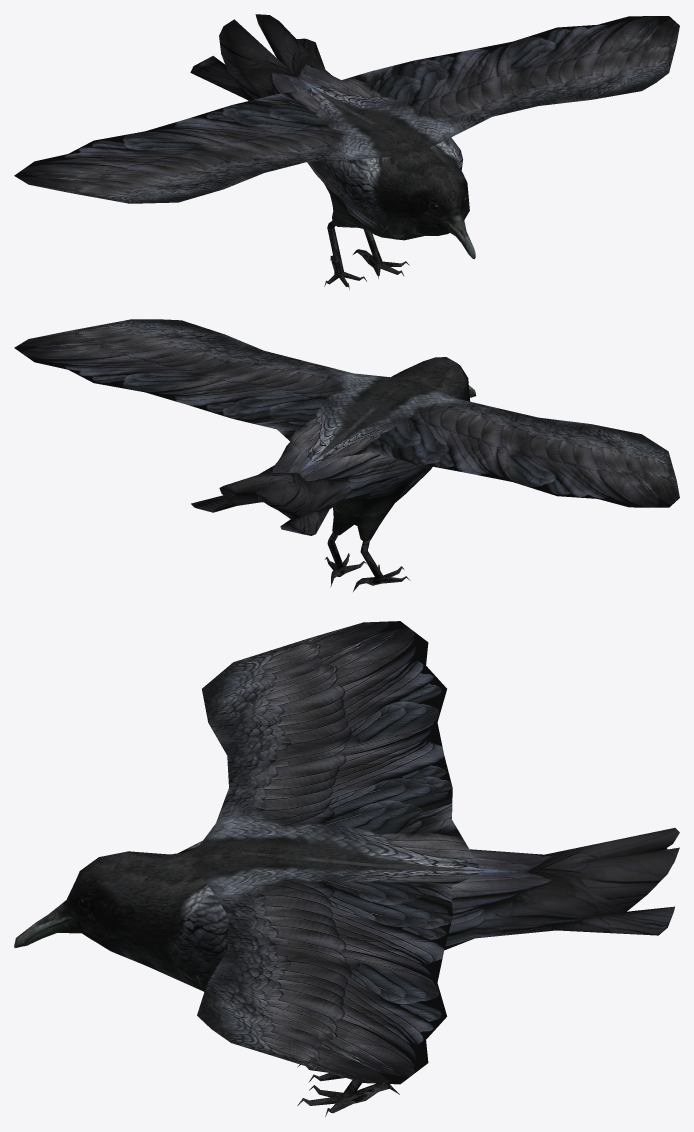
The model's file is crow.fbx.
3 renders of one model, top to bottom at view 1: azimuth 30°, elevation 25°; view 2: azimuth 150°, elevation 25°; view 3: azimuth 270°, elevation 25°, orthographic. The views are drawn at different scales.
Visible parts, largest first — view 1: crow1; view 2: crow1; view 3: crow1.
Part boxes in pixels (x1,y1,x2,y2): crow1: (14,14,679,289); crow1: (14,319,679,591); crow1: (14,621,679,1116).
Size of the model in its own units: 77.85 by 19.39 by 47.29.
Materials: 1 (1 with a texture image).
